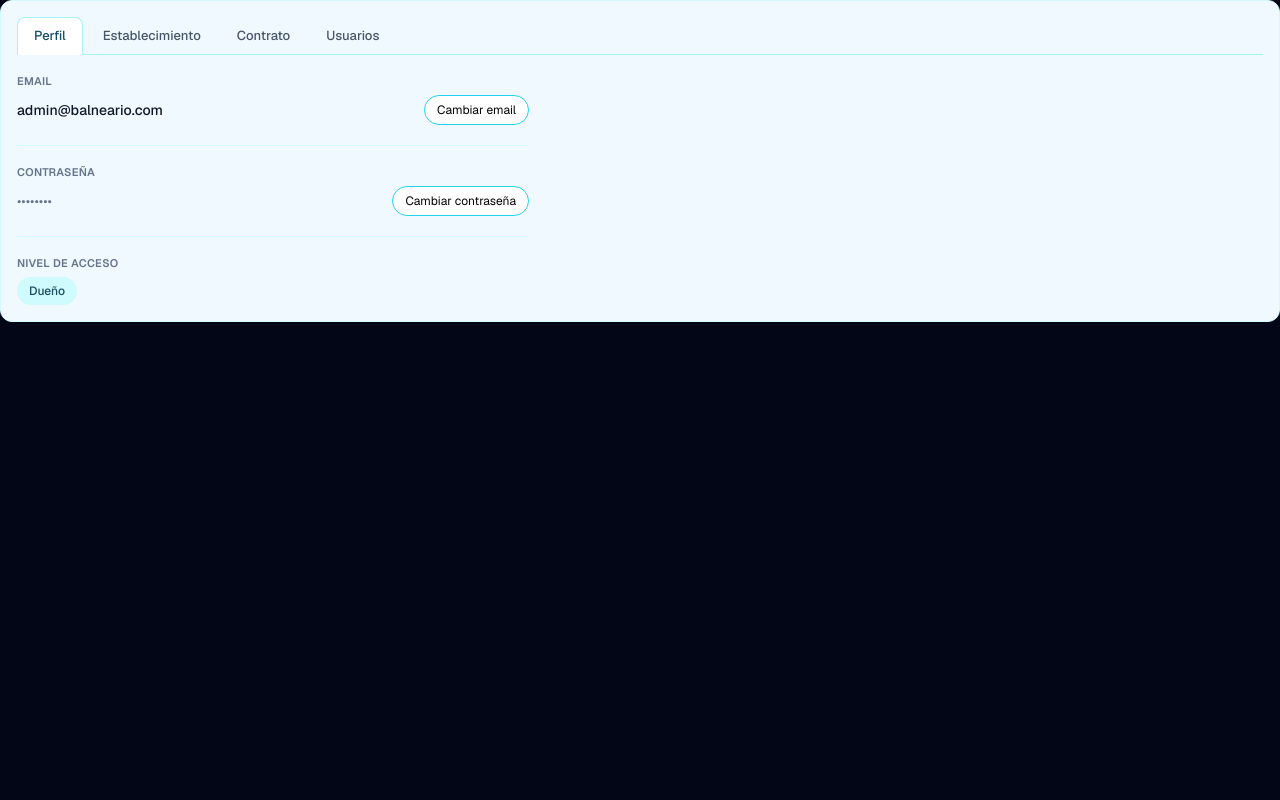
Test: PanelUsuarioSection › cambia a la solapa Establecimiento al clickearla
Click the button "Establecimiento" at (152, 36), box [87,17,217,54]
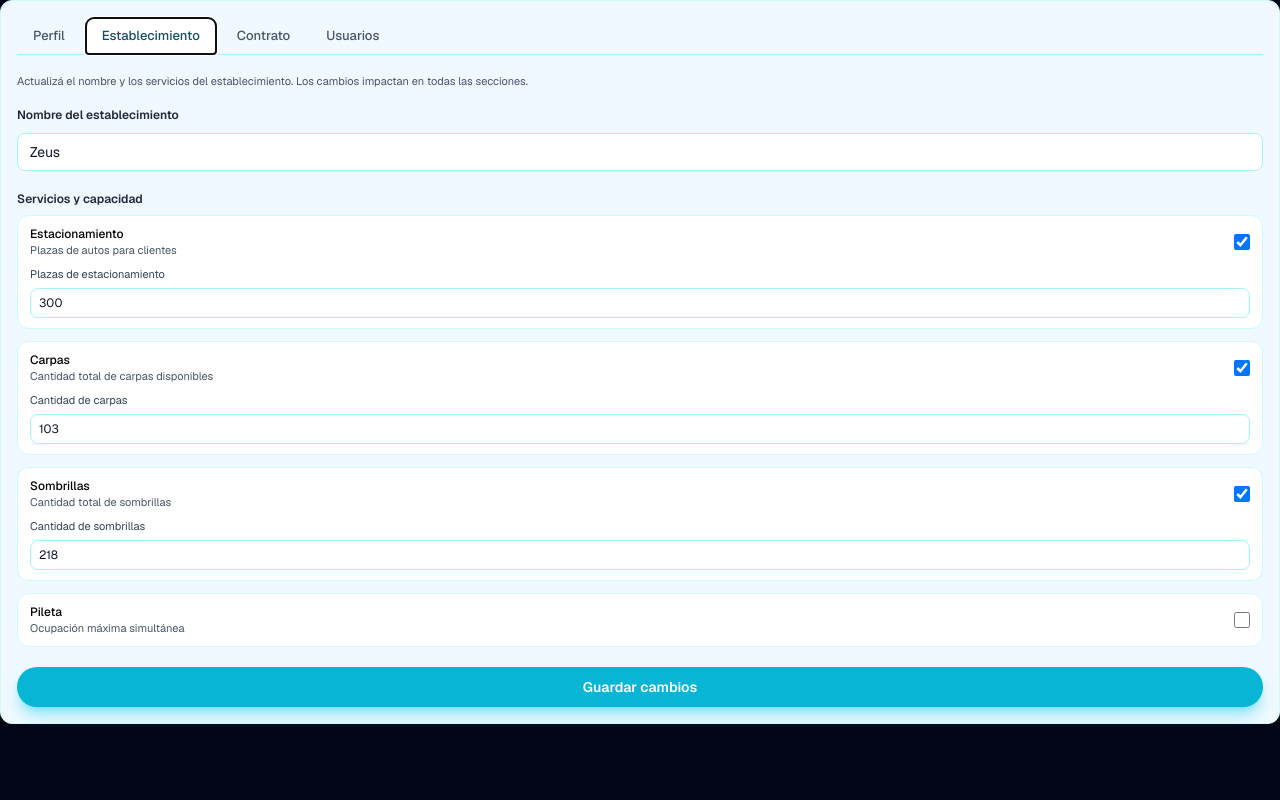
Now the field showing "Zeus" is shown, box [17,133,1263,171]
